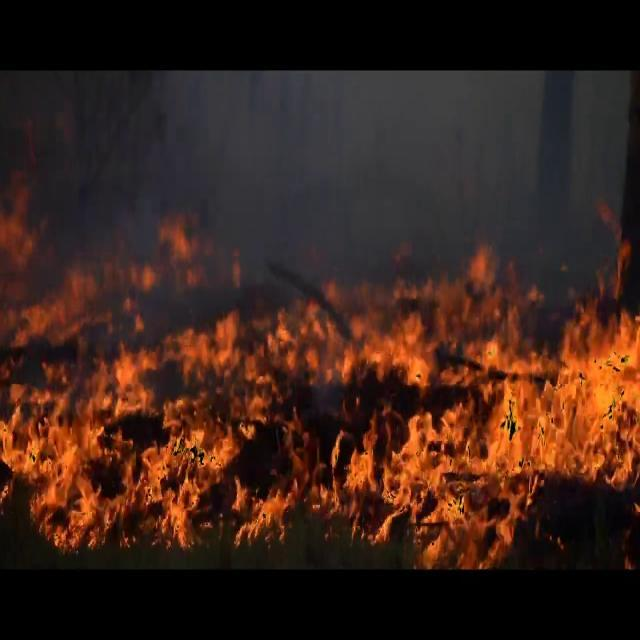Fire: (1, 248, 640, 554)
Smoke: (6, 71, 634, 312)
